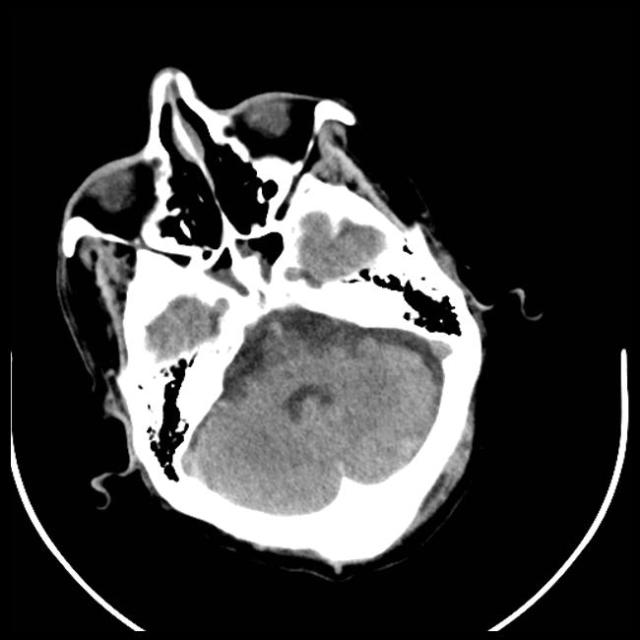lesion: (52, 64, 499, 576)
